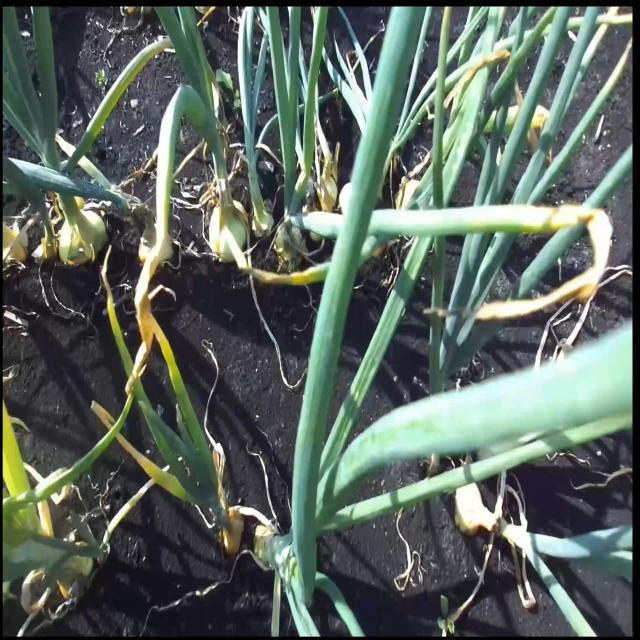onion: (60, 203, 104, 269), (207, 198, 248, 268), (138, 224, 172, 274), (454, 480, 483, 538), (274, 222, 304, 274), (2, 225, 27, 275), (221, 509, 245, 561)
